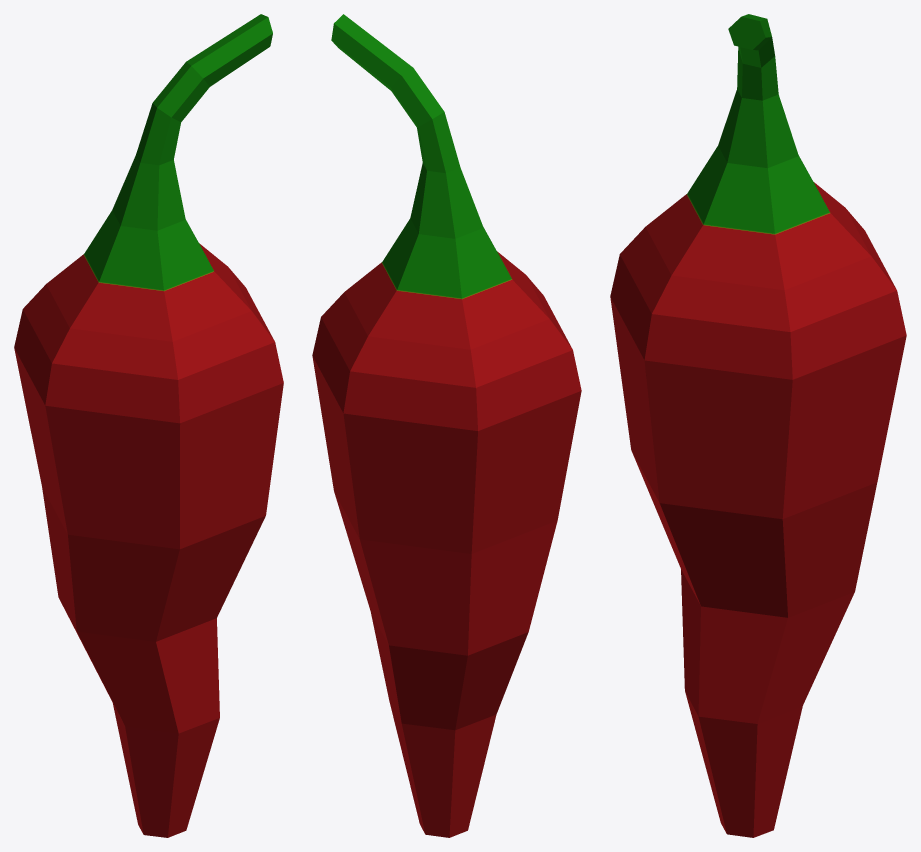
The model's file is Lv2BossBulletAfter.fbx.
3 views of the same model, side by side, from view 1: azimuth 30°, elevation 25°; view 2: azimuth 150°, elevation 25°; view 3: azimuth 270°, elevation 25° (orthographic). The views are drawn at different scales.
Parts seen in each view (by area): view 1: Bullet_After; view 2: Bullet_After; view 3: Bullet_After.
Part boxes in pixels (box(x1,y1,x2,y2)): Bullet_After: box(14, 14, 283, 837); Bullet_After: box(312, 14, 581, 837); Bullet_After: box(610, 14, 906, 837).
Bounding box in the file's own units: 59.16 × 187 × 57.92.
1 material, 1 textured.
